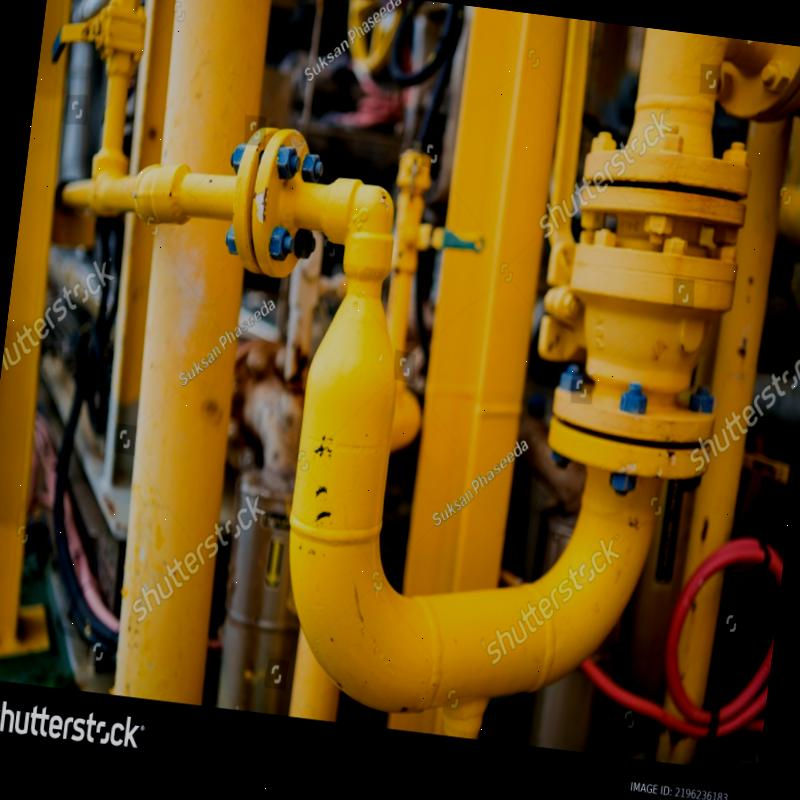Healthy: (86, 0, 301, 699), (297, 536, 611, 722)
